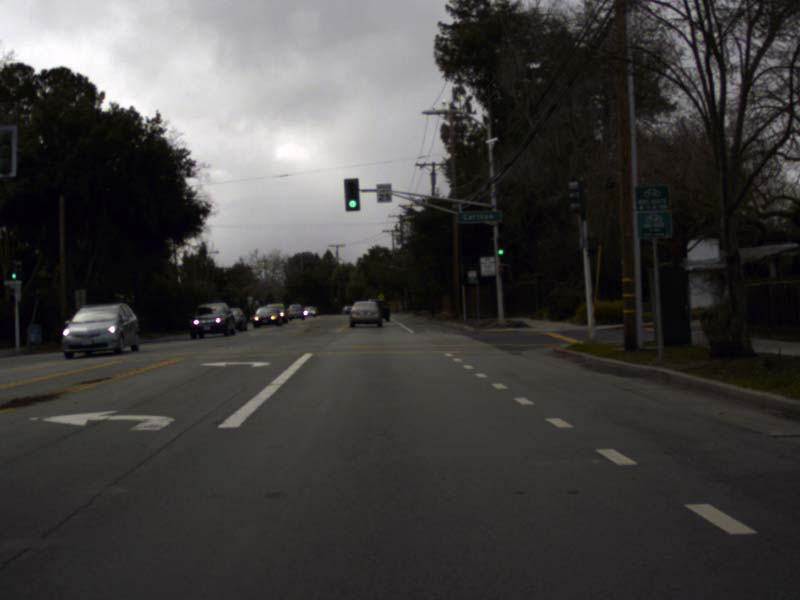Green: (343, 177, 360, 211), (497, 237, 503, 255), (10, 261, 16, 279)
